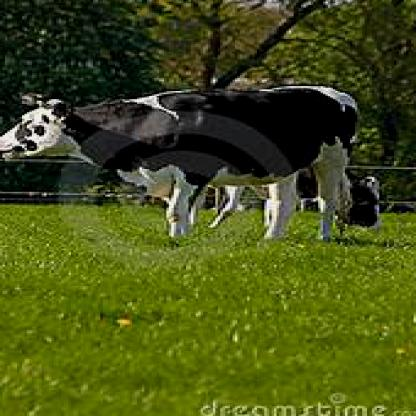horse: (0, 86, 384, 254)
